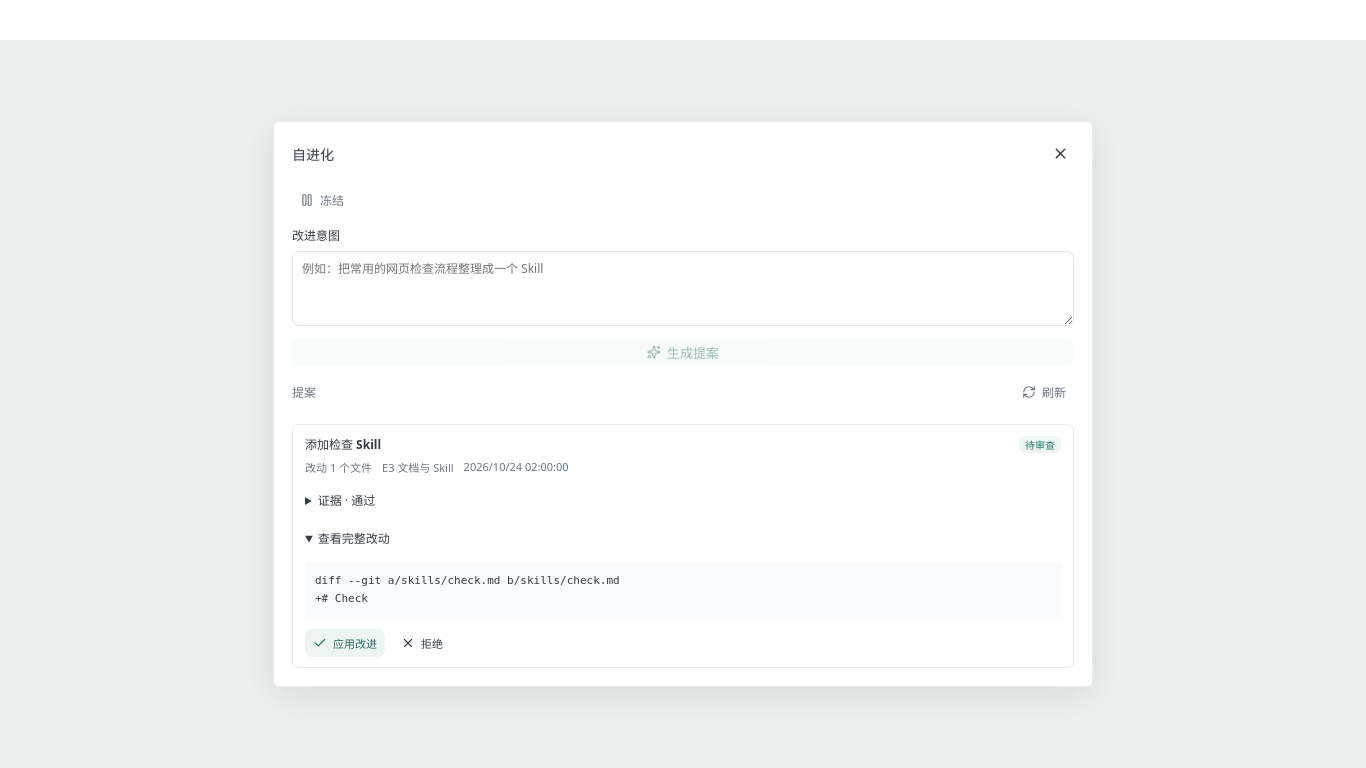
Scenario: evolution review › shows decision failures without hiding the proposal
Check: the text "添加检查 Skill" is shown, box [305,435,381,453]
Step 1. Click the button "应用改进" → [345, 643], box [305,629,385,657]
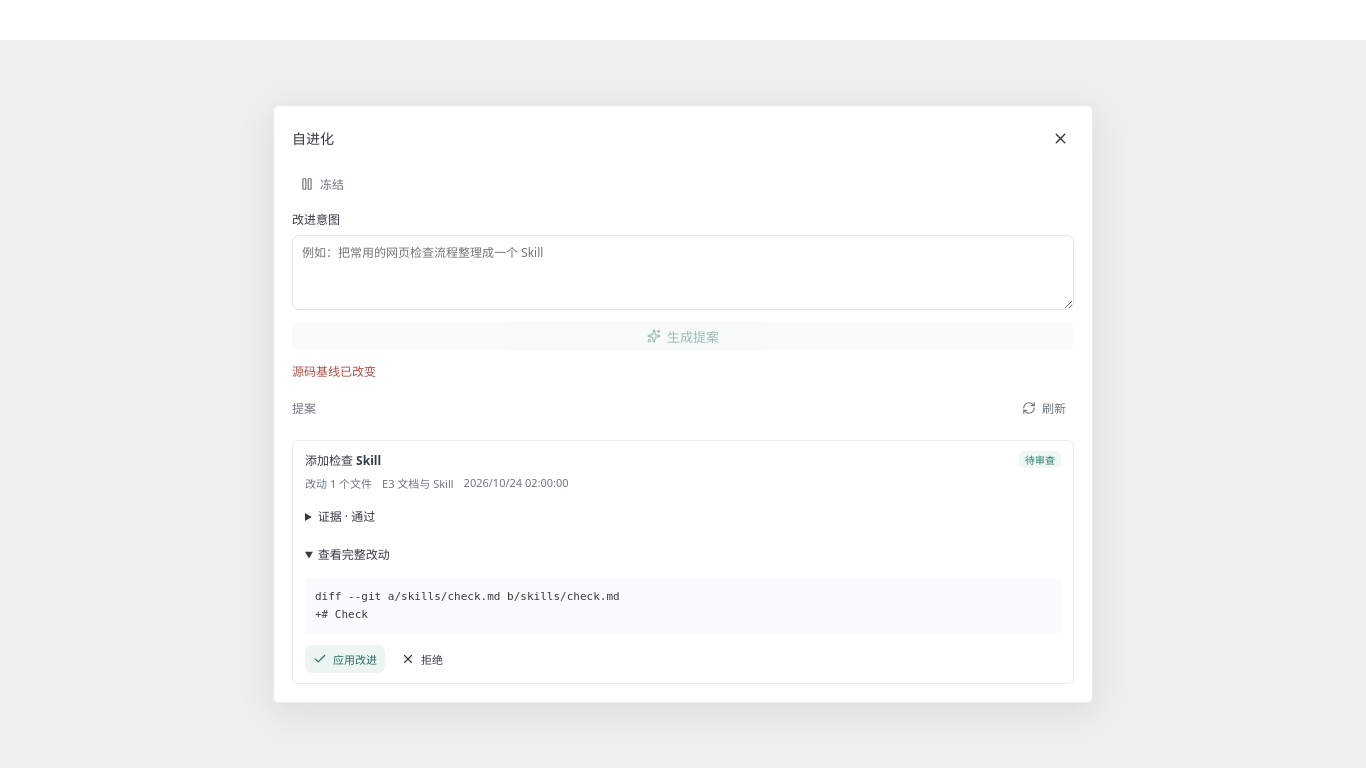
Check: the text "源码基线已改变" is shown, box [292,364,376,380]
